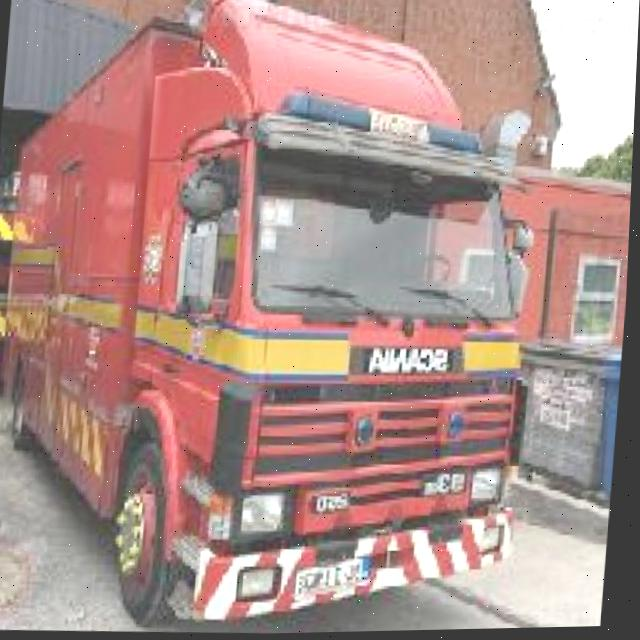emergency: (0, 0, 565, 640)
